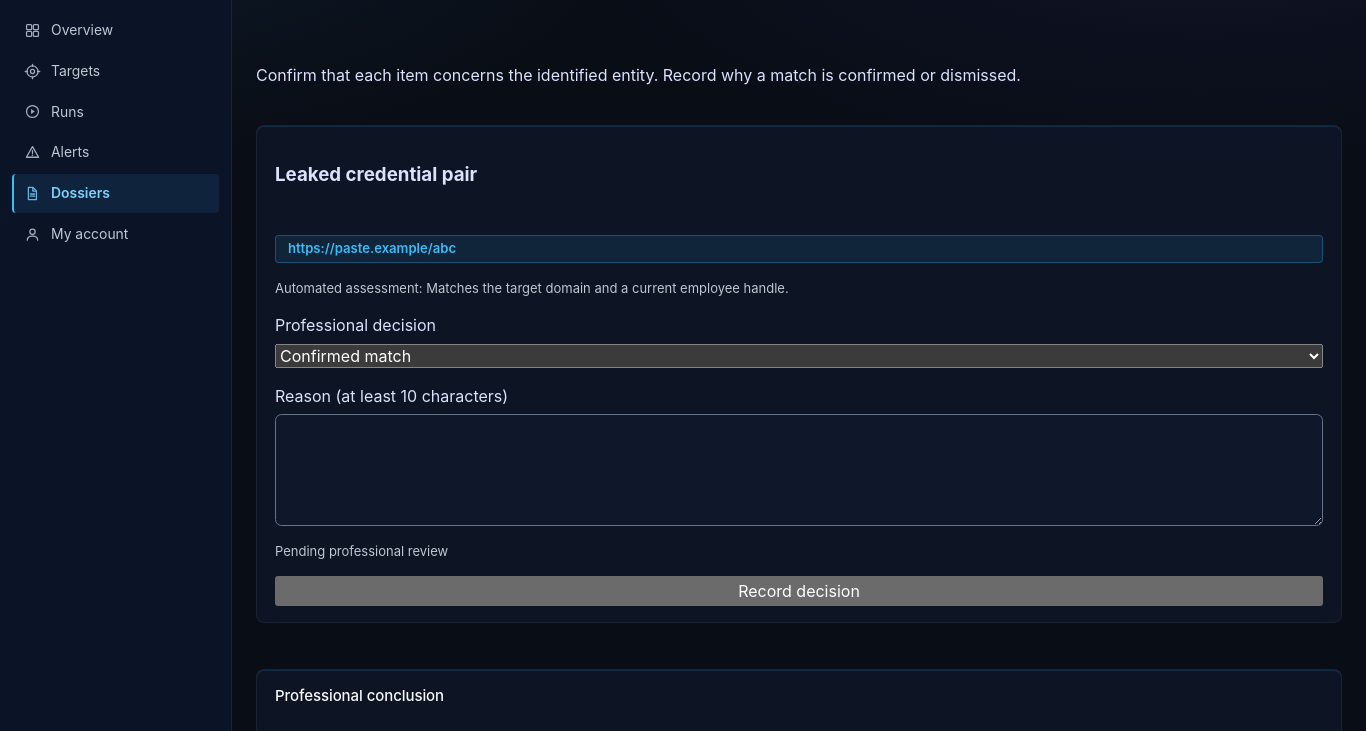
Test case: records an evidence decision before issuing a professional report
This screenshot has width=1366, height=731.
(page scrolled)
Select "Dismissed match / homonym" in the dropdown labelled "Professional decision" at (799, 356), box x1=275 y1=344 x2=1323 y2=368
Type "Identifier differs: this is a fictitious homonym." into the text box labelled "Reason (at least 10 characters)" at (799, 470), box x1=275 y1=414 x2=1323 y2=526
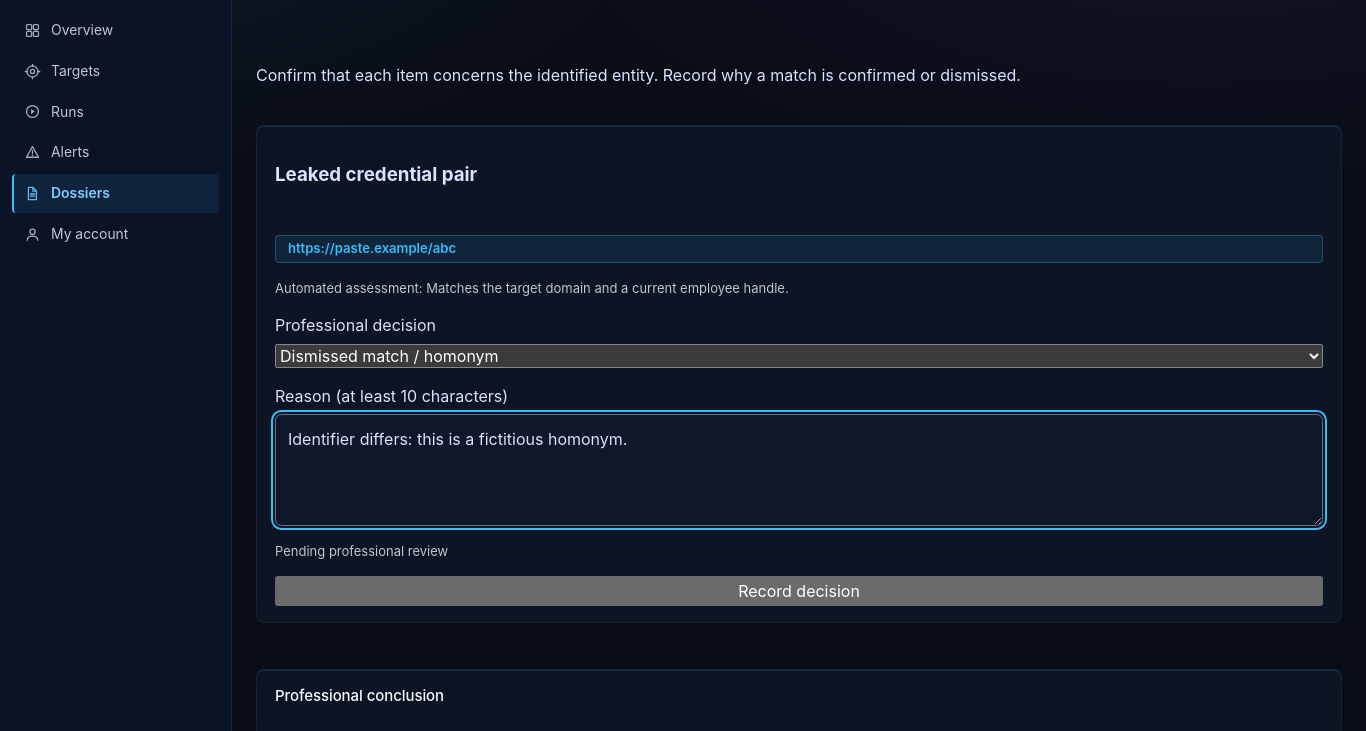
Click the button "Record decision" at (799, 591), box x1=275 y1=576 x2=1323 y2=606
(page scrolled)
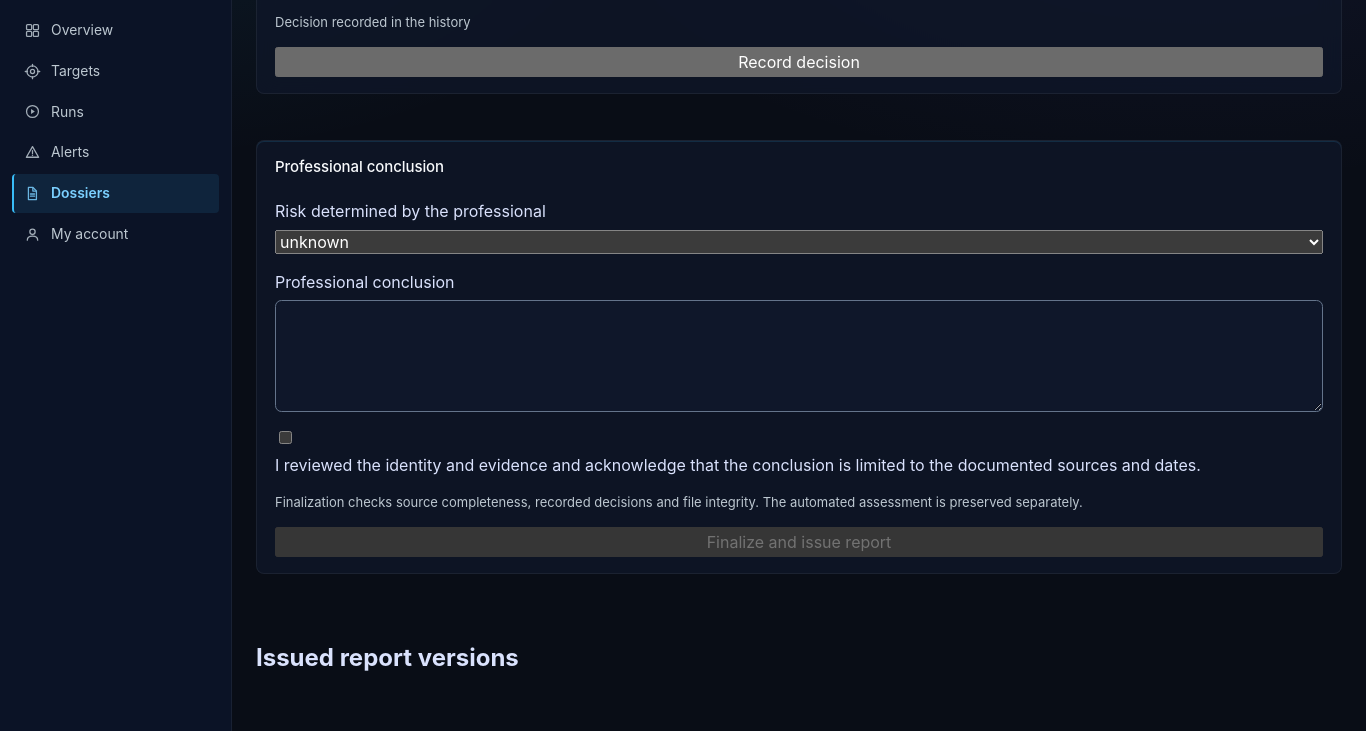
Now the text "Decision recorded in the history" is shown, box x1=275 y1=14 x2=471 y2=30
Type "Evidence reviewed and the homonym was dismissed with supporting identifiers." into the text box labelled "Professional conclusion" at (799, 356), box x1=275 y1=300 x2=1323 y2=412
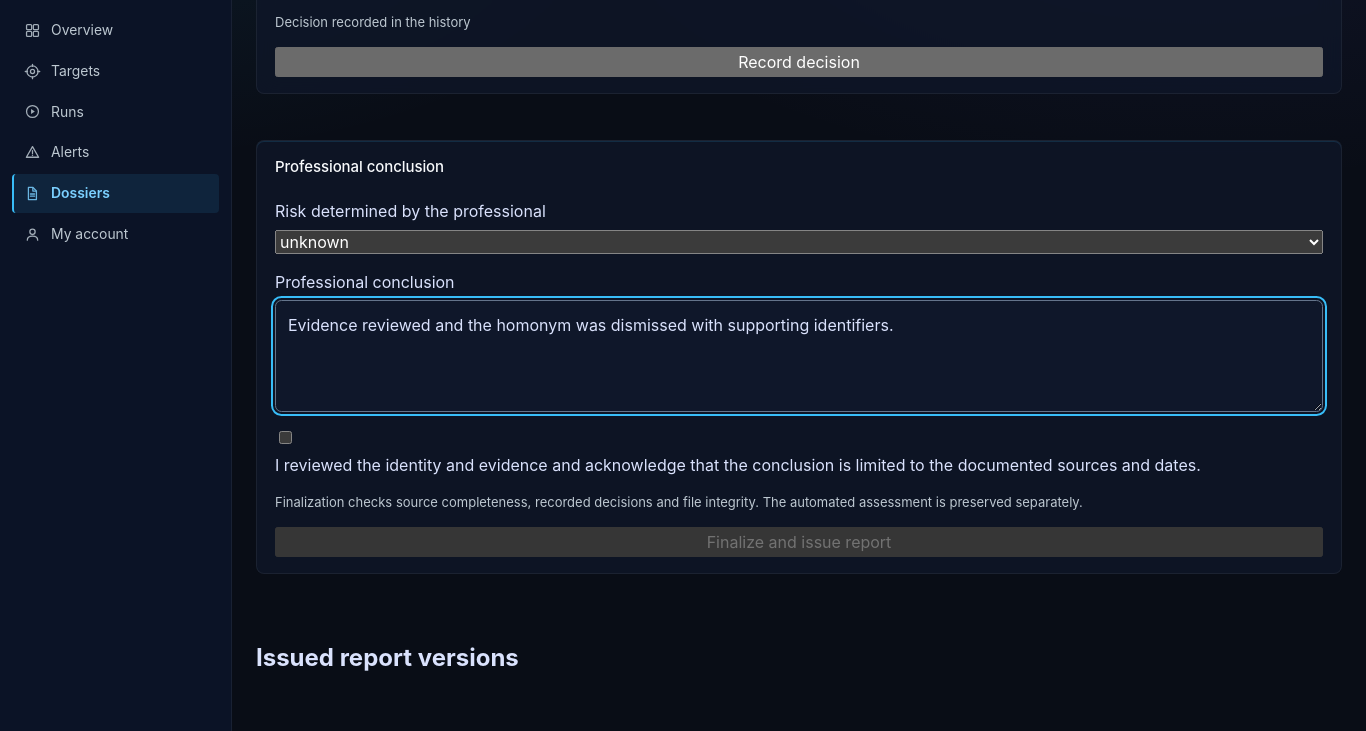
Select "medium" in the dropdown labelled "Risk determined by the professional" at (799, 242), box x1=275 y1=230 x2=1323 y2=254
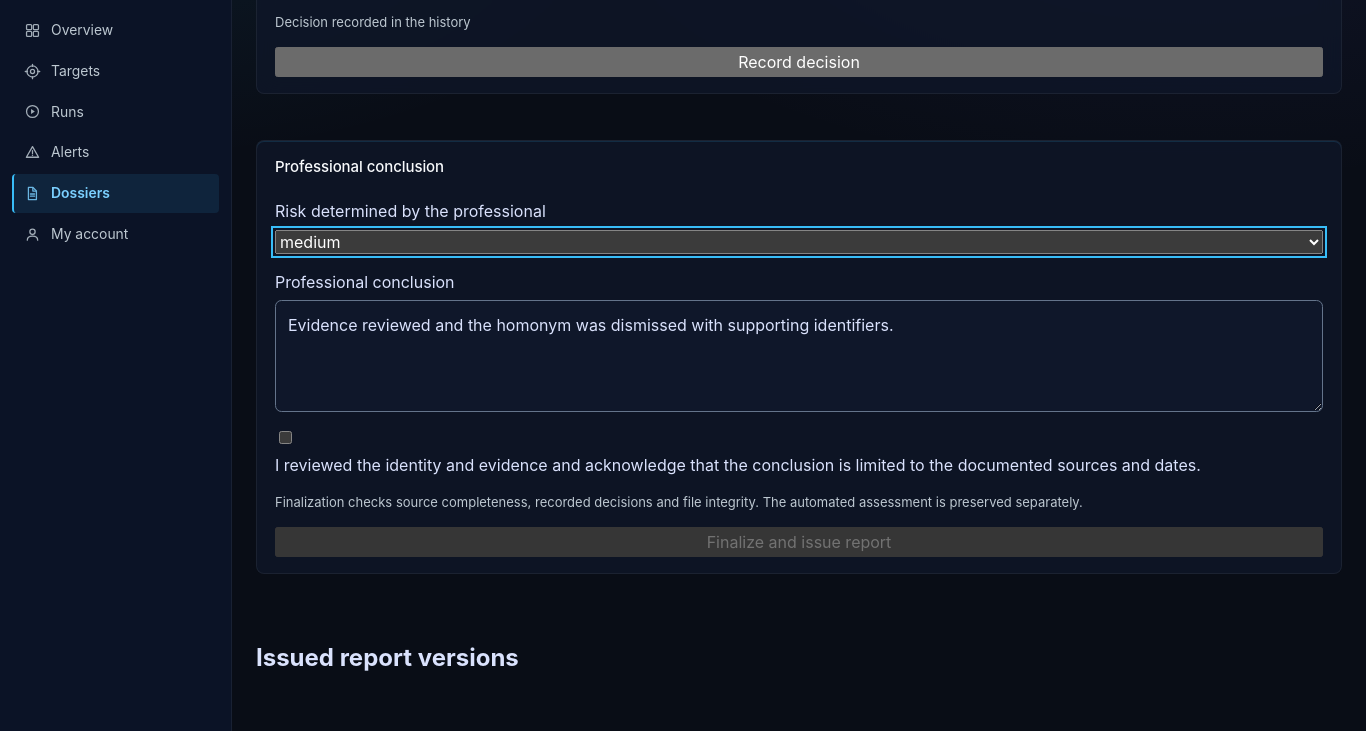
Click the checkbox at (286, 437), box x1=279 y1=431 x2=292 y2=444
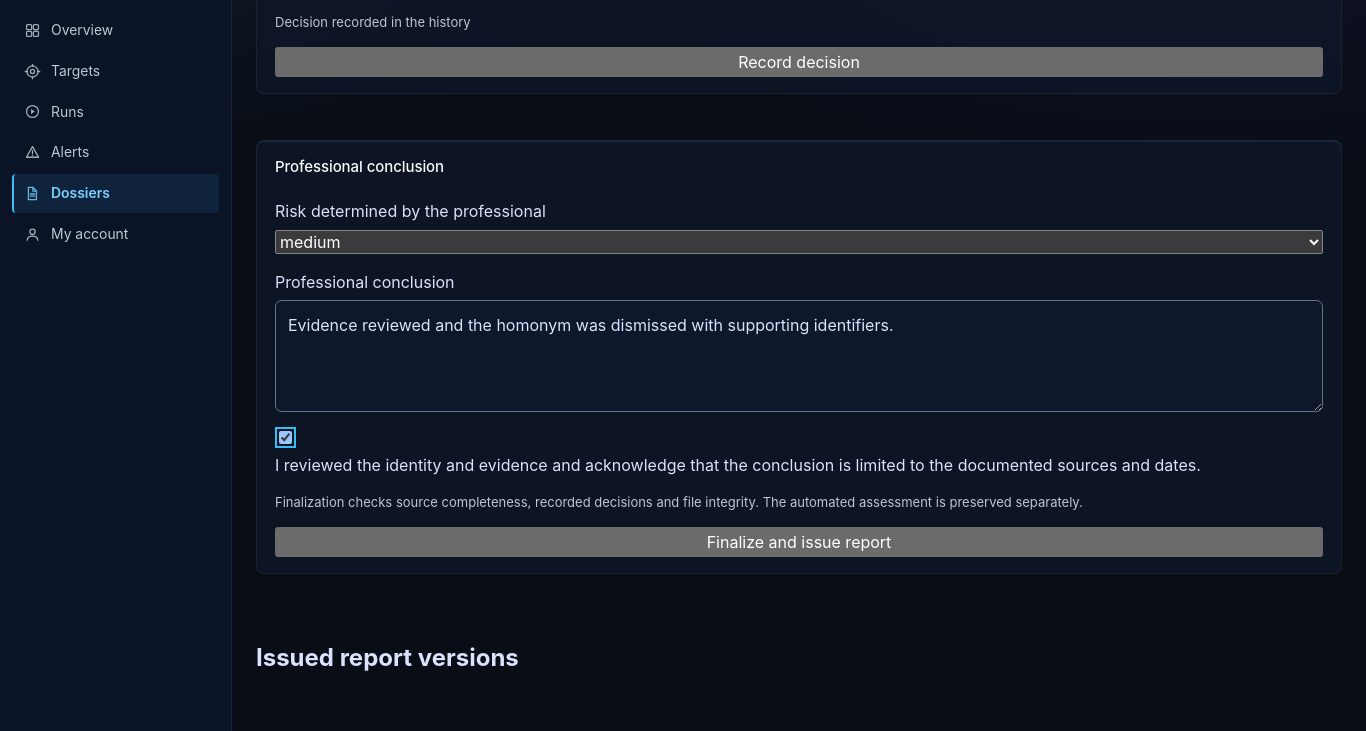
Click the button "Finalize and issue report" at (799, 542), box x1=275 y1=527 x2=1323 y2=557
(page scrolled)
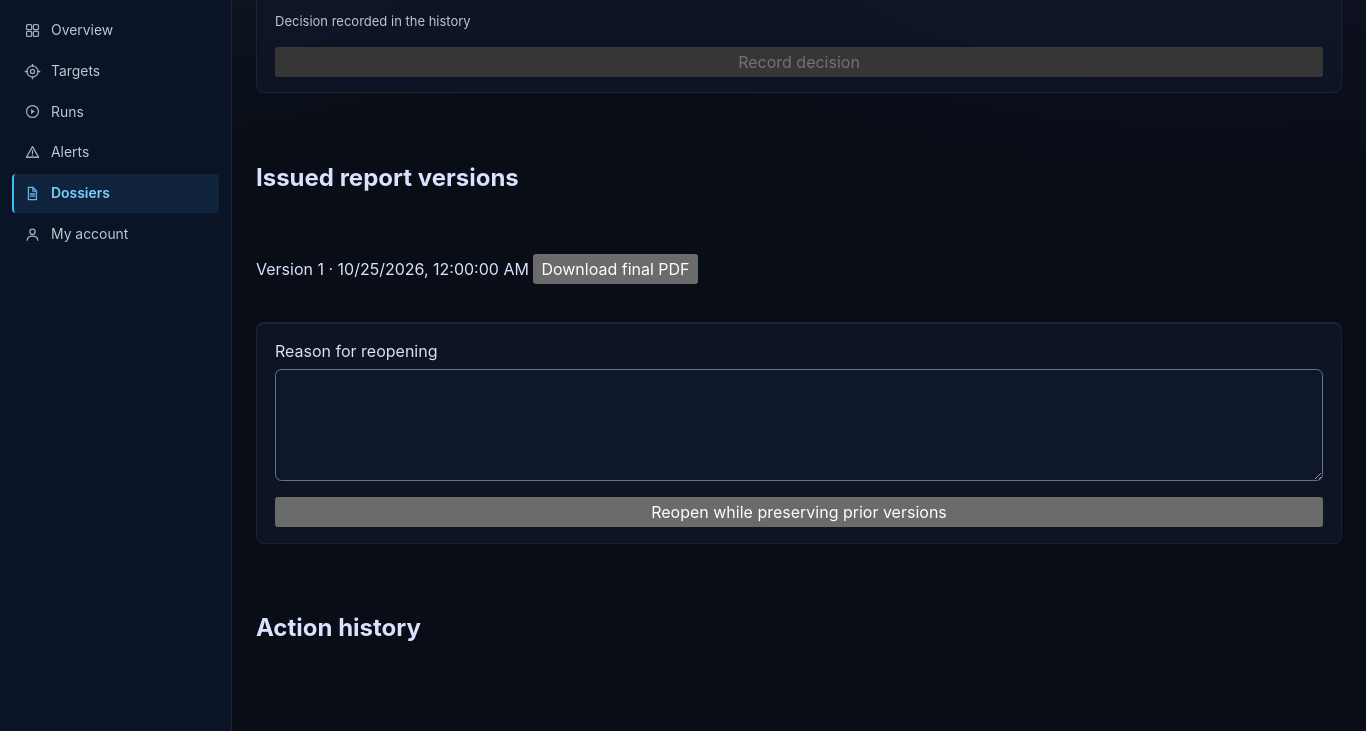
Now the button "Download final PDF" is shown, box x1=533 y1=254 x2=698 y2=284
